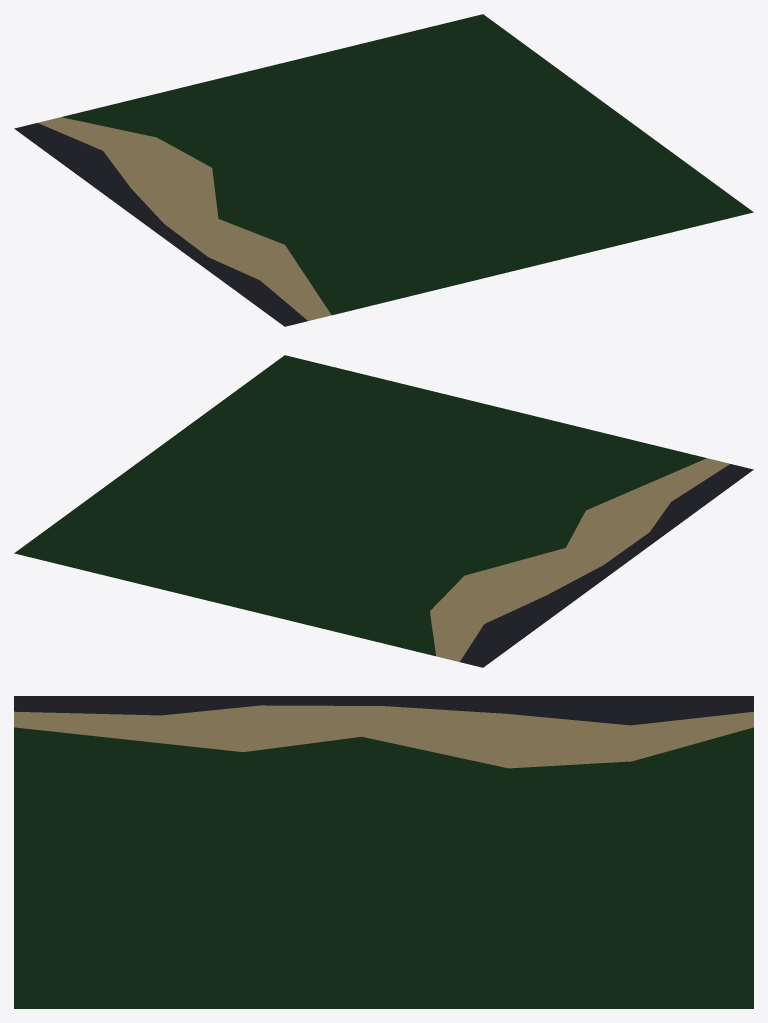
Rendered from terrain_plains_coast2.fbx.
3 renders of one model, top to bottom at view 1: azimuth 30°, elevation 25°; view 2: azimuth 150°, elevation 25°; view 3: azimuth 270°, elevation 25°, orthographic. The views are drawn at different scales.
Visible parts, largest first — view 1: terrain_plains_coast2; view 2: terrain_plains_coast2; view 3: terrain_plains_coast2.
Boxes of the visible parts, <box> form: terrain_plains_coast2: <box>14,14,753,326</box>; terrain_plains_coast2: <box>14,355,753,667</box>; terrain_plains_coast2: <box>14,696,753,1008</box>.
Bounding box in the file's own units: 10 × 0 × 10.
